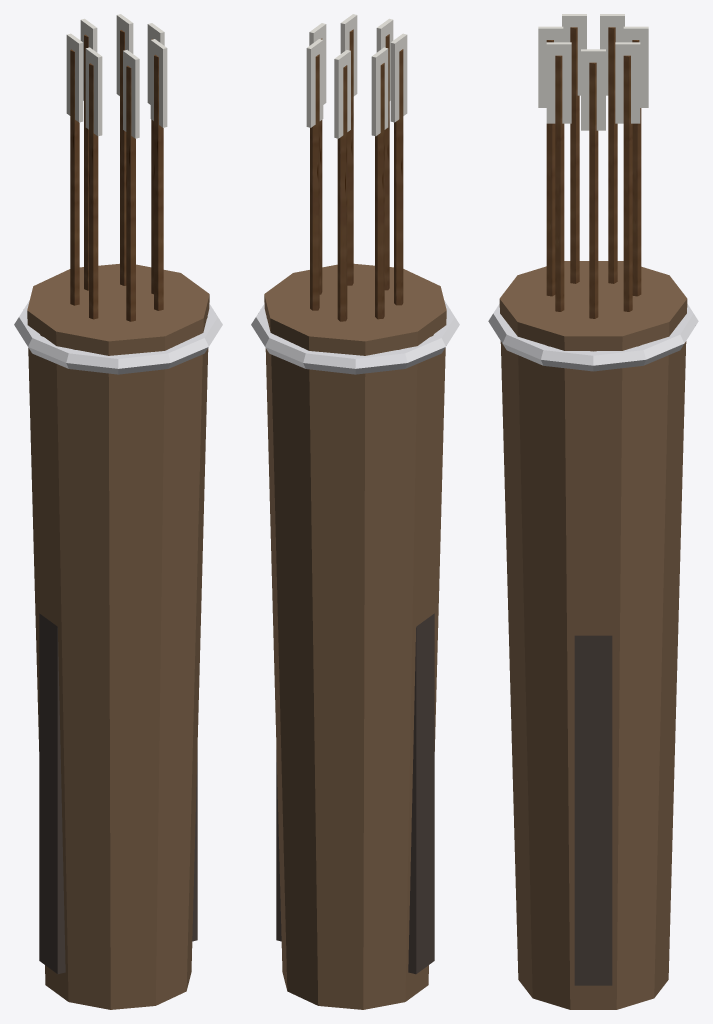
File: quiver.glb
3 views of the same model, side by side, from view 1: azimuth 30°, elevation 25°; view 2: azimuth 150°, elevation 25°; view 3: azimuth 270°, elevation 25° (orthographic).
Parts seen in each view (by area): view 1: Quiver; view 2: Quiver; view 3: Quiver.
Boxes of the visible parts, box(x1,y1,x2,y2) form: Quiver: box(14, 14, 222, 1009); Quiver: box(251, 14, 459, 1009); Quiver: box(488, 14, 698, 1009).
Size of the model in its own units: 0.168 by 0.835 by 0.168.
5 materials, 1 textured.
